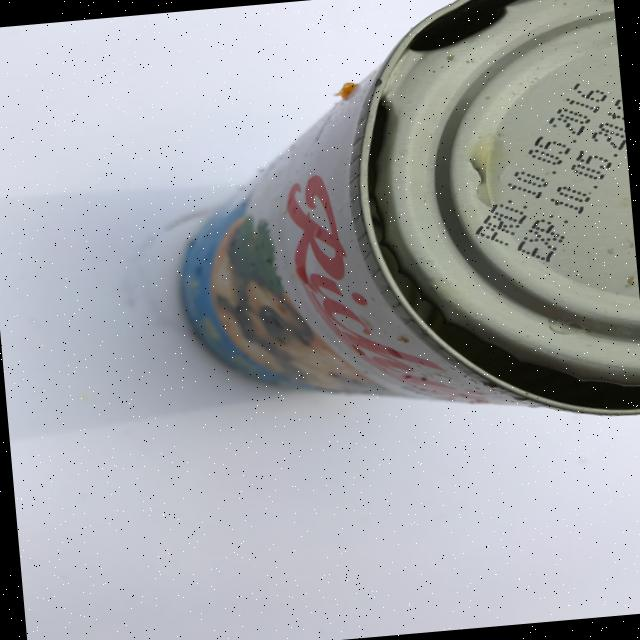metal: (153, 0, 640, 453)
